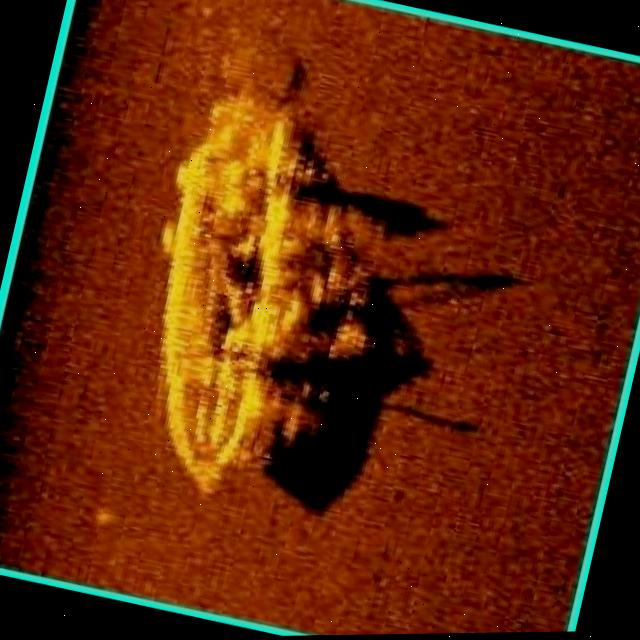shipwreck: (112, 82, 412, 527)
